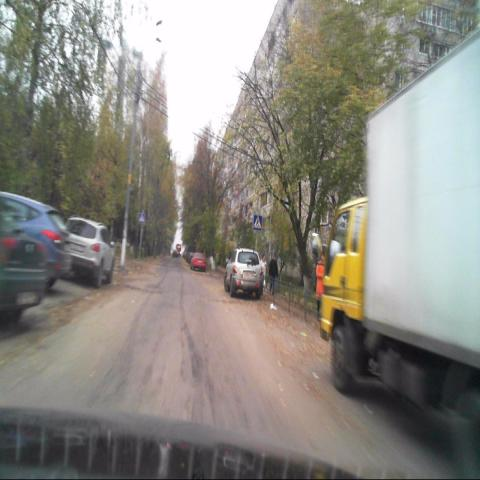5_19_1: (253, 215, 262, 231)
